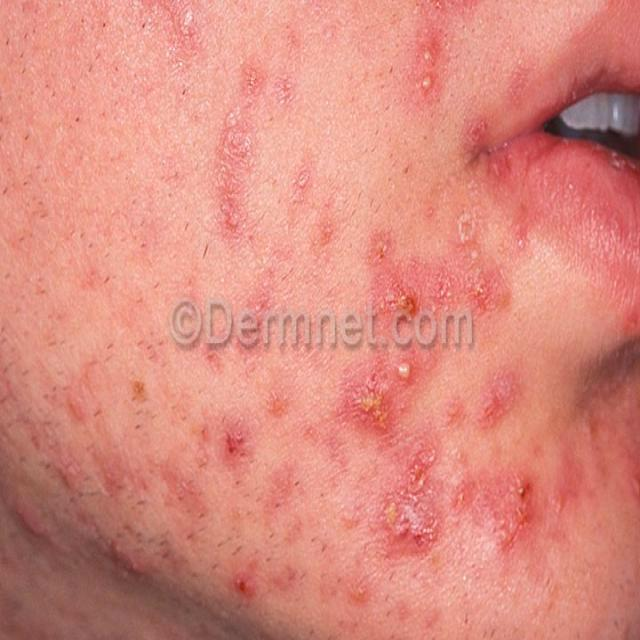Pimples: (394, 356, 419, 396), (418, 31, 441, 70), (412, 64, 438, 95)
